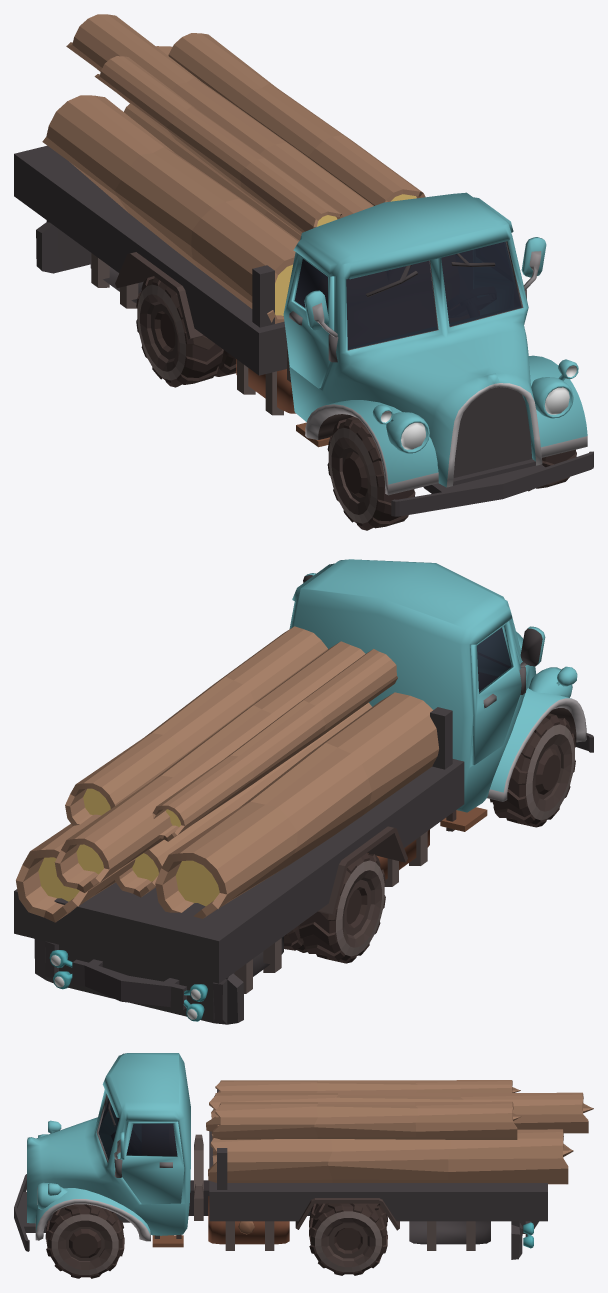
The model's file is Camion2.fbx.
3 views of the same model, one above another, from view 1: azimuth 30°, elevation 25°; view 2: azimuth 150°, elevation 25°; view 3: azimuth 270°, elevation 25° (orthographic). The views are drawn at different scales.
Visible parts, largest first — view 1: Truck_body.001, Prop2, Truck_Trailler1, Truck_Engine.001, Truck_Wheel_Back.001, Truck_Wheel_Front.right.001, Truck_Door.right.001, Truck_Bumper.001, TruckModule_OilTank.001, Truck_WheelCover.001, TruckModule_Laggage.001; view 2: Prop2, Truck_body.001, Truck_Trailler1, Truck_Bumper.001, Truck_Wheel_Back.001, Truck_Wheel_Front.right.001, Truck_Door.right.001, Truck_WheelCover.001, TruckModule_Laggage.001, TruckModule_OilTank.001; view 3: Prop2, Truck_body.001, Truck_Trailler1, Truck_Wheel_Back.001, Truck_Wheel_Front.left.001, Truck_Door.left.001, TruckModule_OilTank.001, TruckModule_Laggage.001, Truck_Chassy_Short.001, Truck_Engine.001, Truck_WheelCover.001, Truck_Bumper.001.
Boxes of the visible parts, x1=… form: Truck_body.001: x1=287, y1=192, x2=587, y2=495; Prop2: x1=42, y1=14, x2=425, y2=323; Truck_Trailler1: x1=14, y1=145, x2=287, y2=375; Truck_Engine.001: x1=391, y1=387, x2=593, y2=516; Truck_Wheel_Back.001: x1=136, y1=276, x2=236, y2=387; Truck_Wheel_Front.right.001: x1=327, y1=416, x2=415, y2=530; Truck_Door.right.001: x1=283, y1=252, x2=333, y2=388; Truck_Bumper.001: x1=36, y1=220, x2=90, y2=273; TruckModule_OilTank.001: x1=236, y1=359, x2=295, y2=415; Truck_WheelCover.001: x1=115, y1=252, x2=203, y2=339; TruckModule_Laggage.001: x1=90, y1=252, x2=143, y2=308; Prop2: x1=16, y1=626, x2=438, y2=922; Truck_body.001: x1=290, y1=559, x2=586, y2=831; Truck_Trailler1: x1=14, y1=707, x2=464, y2=983; Truck_Bumper.001: x1=34, y1=938, x2=243, y2=1024; Truck_Wheel_Back.001: x1=284, y1=853, x2=385, y2=963; Truck_Wheel_Front.right.001: x1=490, y1=713, x2=575, y2=827; Truck_Door.right.001: x1=470, y1=621, x2=521, y2=764; Truck_WheelCover.001: x1=318, y1=826, x2=407, y2=915; TruckModule_Laggage.001: x1=233, y1=936, x2=283, y2=993; TruckModule_OilTank.001: x1=368, y1=829, x2=429, y2=886; Prop2: x1=206, y1=1080, x2=593, y2=1184; Truck_body.001: x1=27, y1=1053, x2=190, y2=1247; Truck_Trailler1: x1=209, y1=1089, x2=547, y2=1221; Truck_Wheel_Back.001: x1=309, y1=1203, x2=387, y2=1275; Truck_Wheel_Front.left.001: x1=45, y1=1204, x2=124, y2=1278; Truck_Door.left.001: x1=120, y1=1121, x2=184, y2=1204; TruckModule_OilTank.001: x1=208, y1=1196, x2=289, y2=1250; TruckModule_Laggage.001: x1=409, y1=1221, x2=490, y2=1250; Truck_Chassy_Short.001: x1=188, y1=1134, x2=310, y2=1220; Truck_Engine.001: x1=14, y1=1174, x2=130, y2=1251; Truck_WheelCover.001: x1=295, y1=1198, x2=399, y2=1230; Truck_Bumper.001: x1=511, y1=1221, x2=538, y2=1259.
Bounding box in the file's own units: 506 × 511 × 1539.
4 materials, 2 textured.
